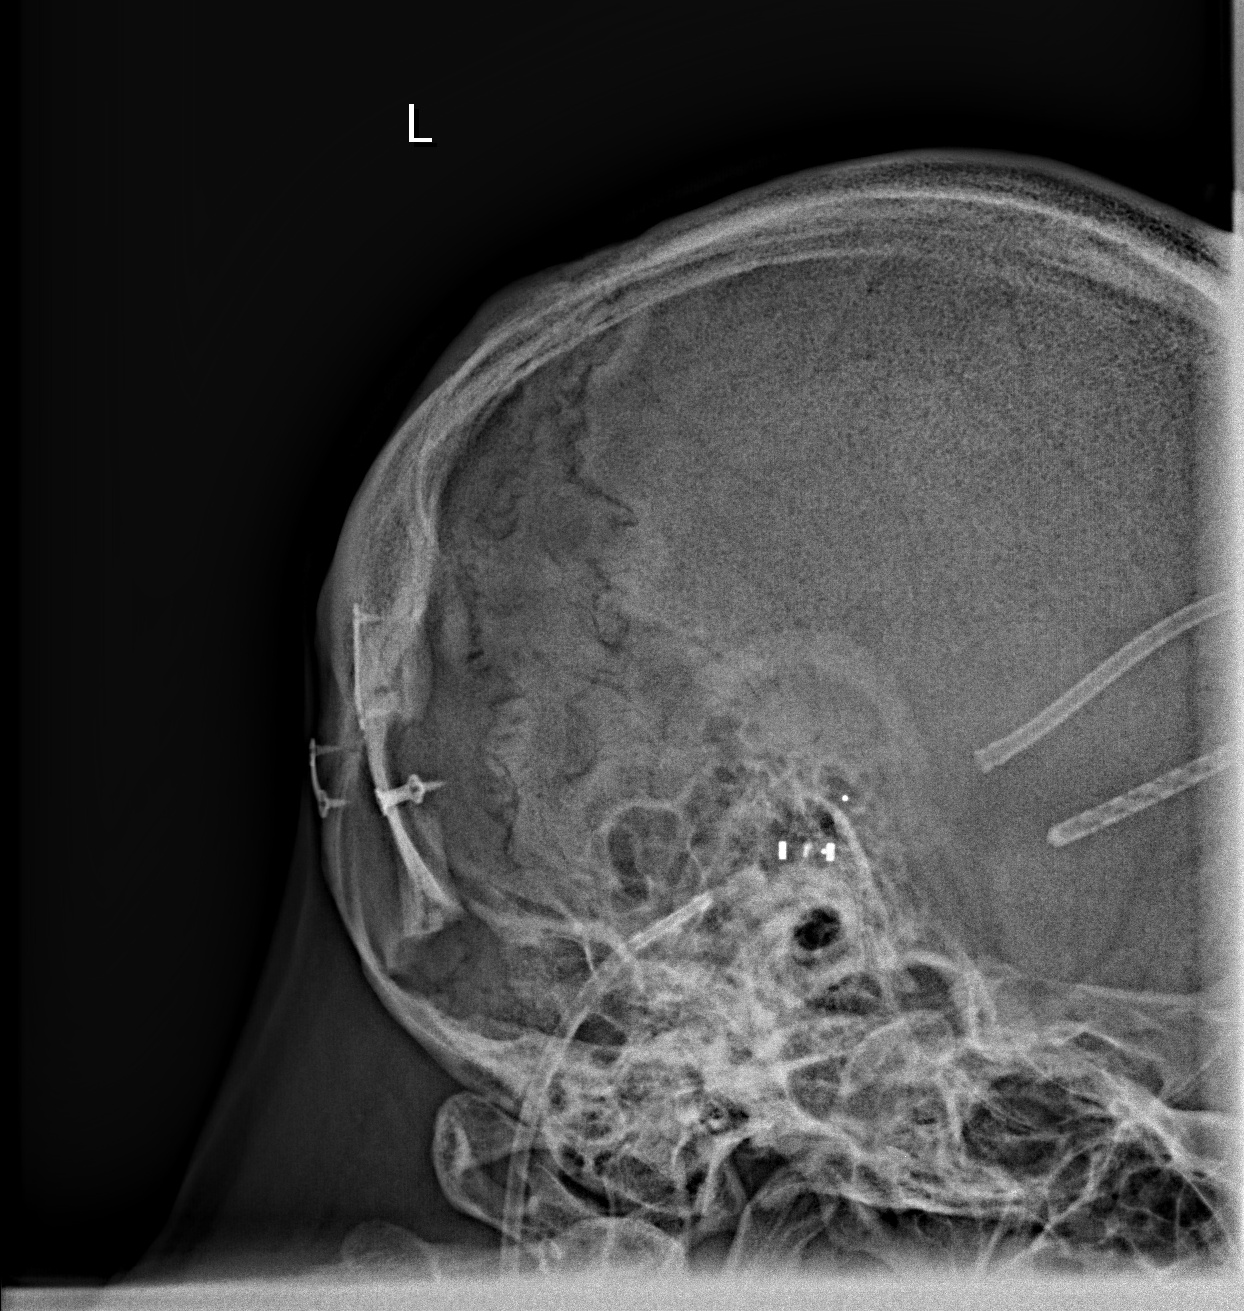Codman Certas: (756, 779, 862, 896)
